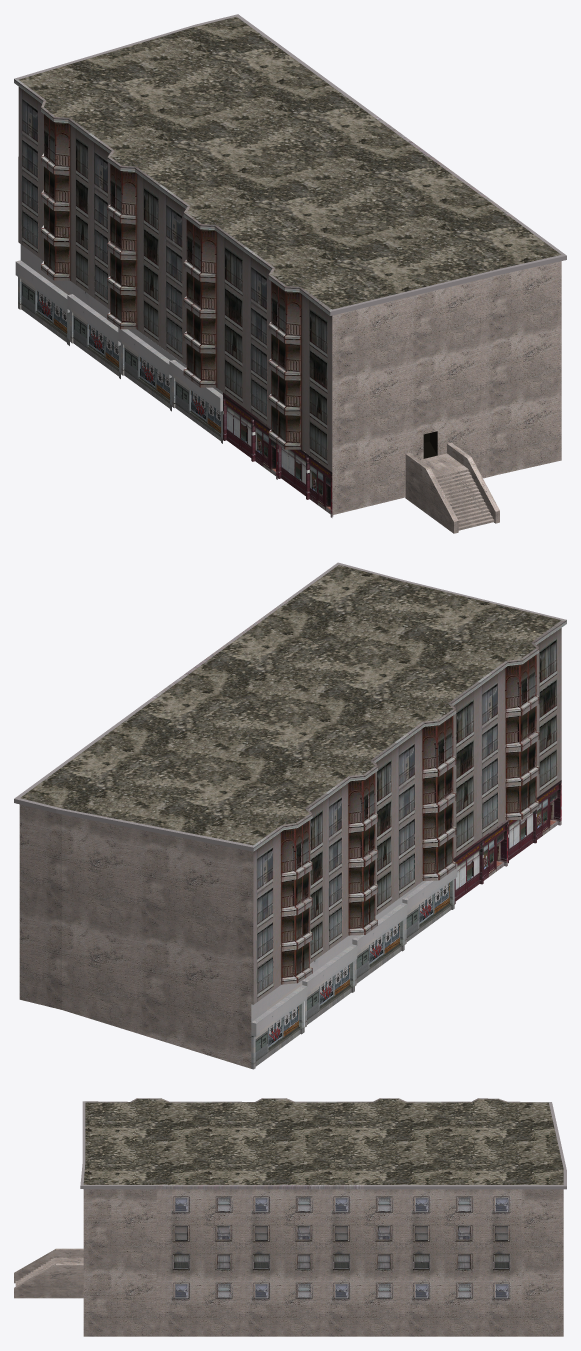
File: mission_18_sfs.obj
3 renders of one model, top to bottom at view 1: azimuth 30°, elevation 25°; view 2: azimuth 150°, elevation 25°; view 3: azimuth 270°, elevation 25°, orthographic. The views are drawn at different scales.
Parts seen in each view (by area): view 1: mission_18_SFS; view 2: mission_18_SFS; view 3: mission_18_SFS.
Part boxes in pixels (bbox=[...]): mission_18_SFS: bbox=[14, 14, 566, 533]; mission_18_SFS: bbox=[14, 562, 566, 1069]; mission_18_SFS: bbox=[14, 1098, 566, 1336].
Bounding box in the file's own units: 26.38 × 23.55 × 69.99.
7 materials, 7 textured.
